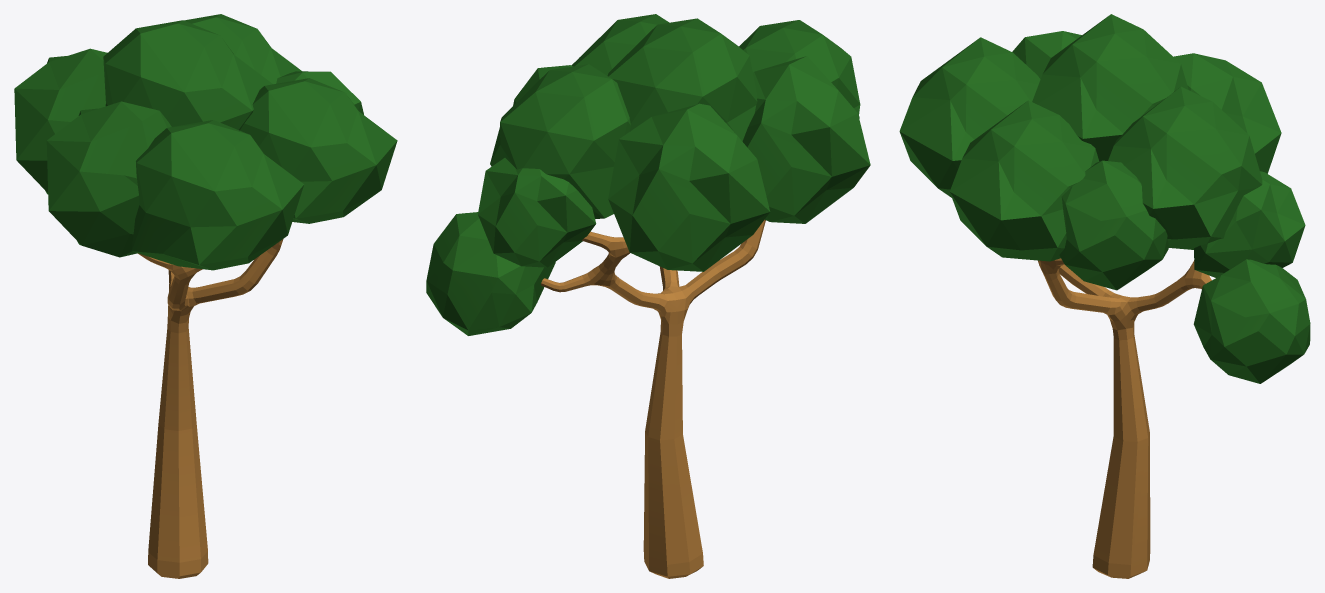
File: tree.090_lev4.glb
The picture shows the model from 3 angles, left to right: view 1: azimuth 30°, elevation 25°; view 2: azimuth 150°, elevation 25°; view 3: azimuth 270°, elevation 25°; orthographic projection. The views are drawn at different scales.
Parts seen in each view (by area): view 1: tree.090_lev4; view 2: tree.090_lev4; view 3: tree.090_lev4.
Boxes of the visible parts, x1=… form: tree.090_lev4: x1=14, y1=14, x2=397, y2=578; tree.090_lev4: x1=426, y1=14, x2=870, y2=578; tree.090_lev4: x1=899, y1=14, x2=1310, y2=578.
Size of the model in its own units: 0.6506 by 1 by 0.6965.
